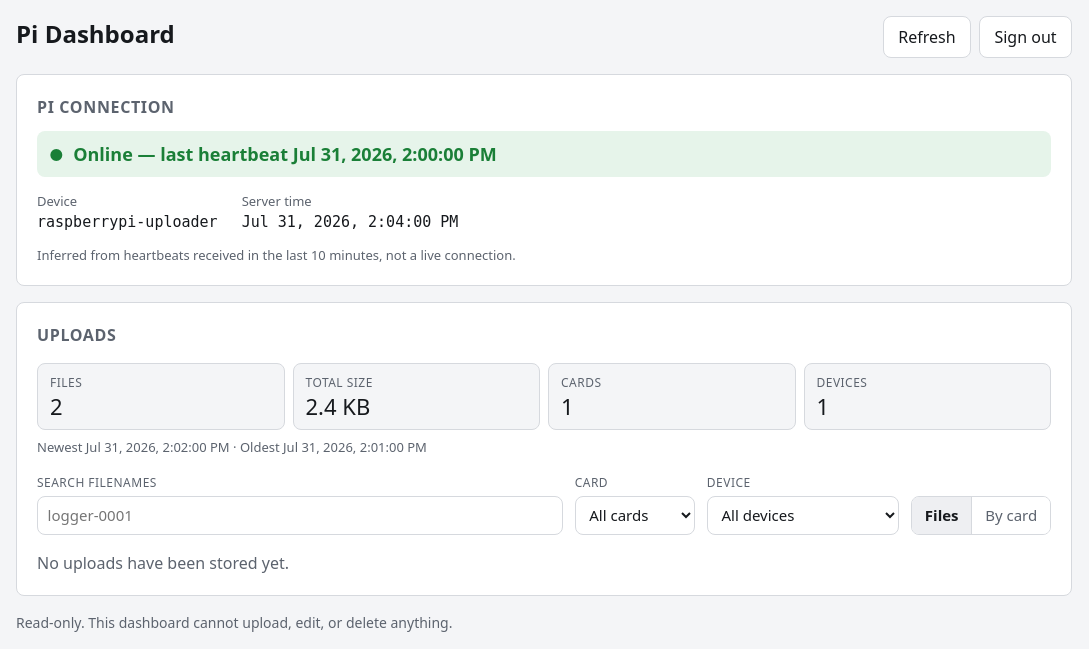
Test: login › signs out back to the login screen
The image size is (1089, 649).
Click the button "Sign out": (1026, 37) [979, 16, 1072, 58]
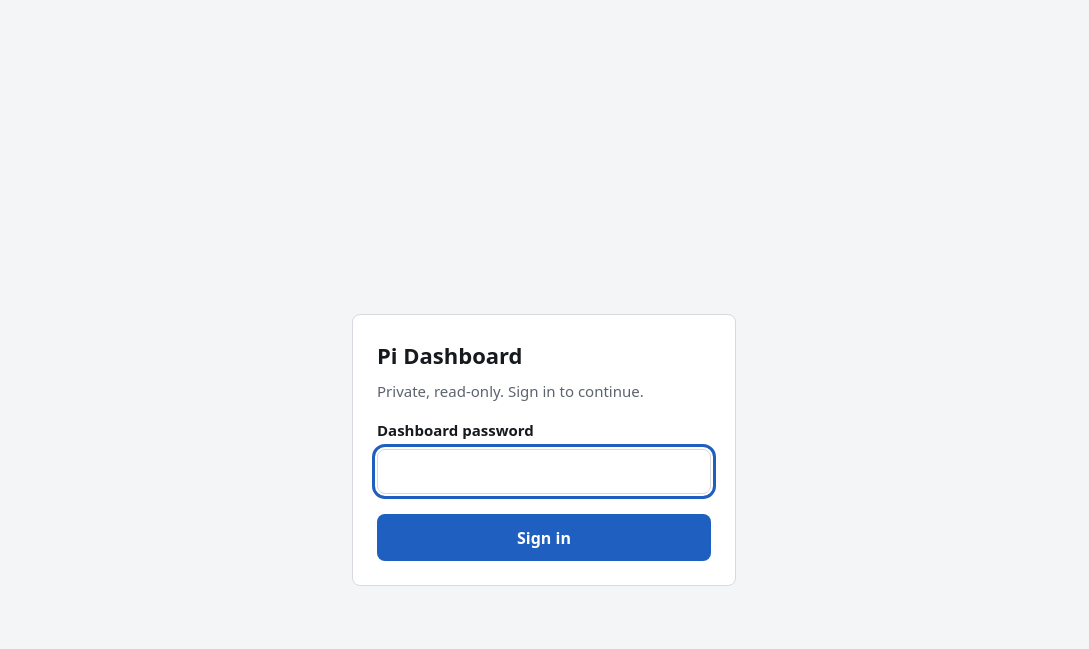
Expected: the password field labelled "Dashboard password" is shown, [377, 449, 711, 494]
